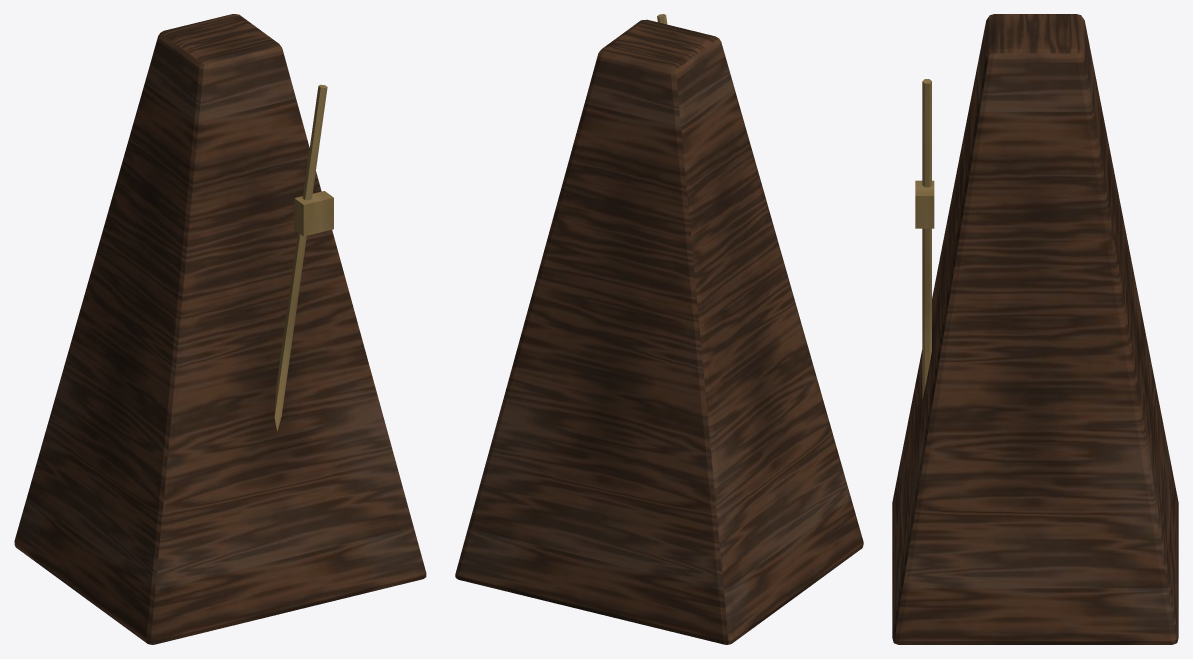
The model's file is MU14_Metronome.glb.
3 renders of one model, left to right at view 1: azimuth 30°, elevation 25°; view 2: azimuth 150°, elevation 25°; view 3: azimuth 270°, elevation 25°, orthographic. The views are drawn at different scales.
Parts seen in each view (by area): view 1: MU14_Metronome; view 2: MU14_Metronome; view 3: MU14_Metronome.
Boxes of the visible parts, x1=… form: MU14_Metronome: x1=14, y1=14, x2=426, y2=644; MU14_Metronome: x1=455, y1=14, x2=863, y2=644; MU14_Metronome: x1=892, y1=14, x2=1178, y2=644.
Size of the model in its own units: 0.1666 by 0.3 by 0.1429.
2 materials, 2 textured.
